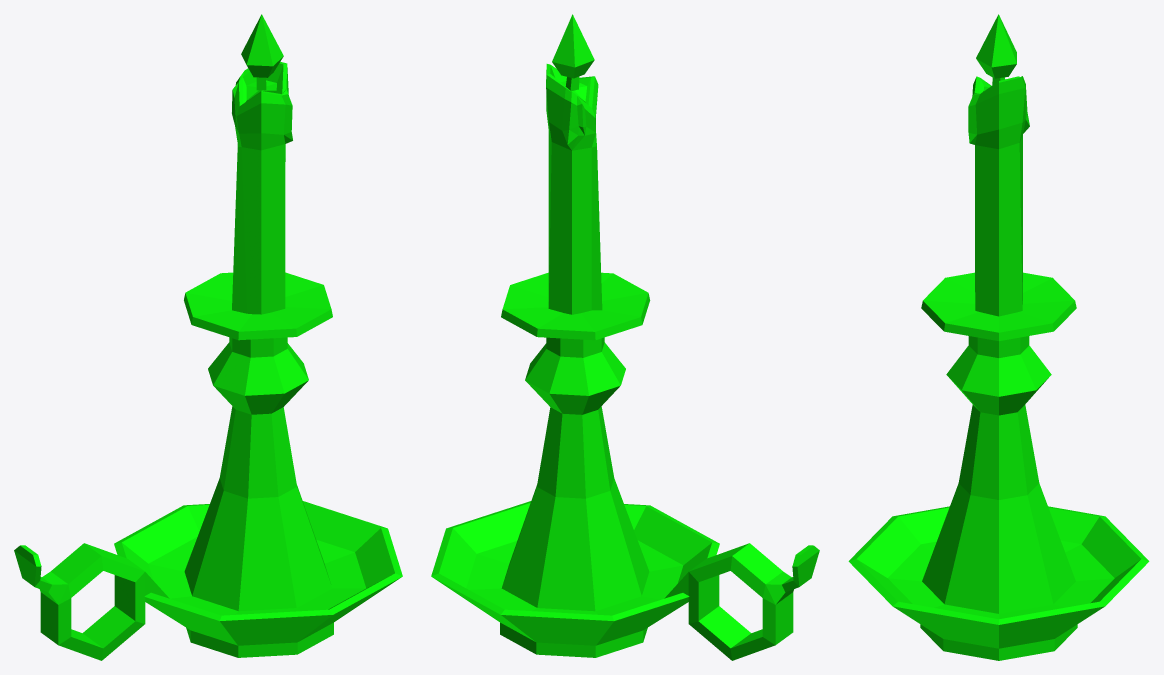
The model's file is SM_Candle_Finger_Holder_A_Lit_Fantasy.fbx.
The picture shows the model from 3 angles, left to right: view 1: azimuth 30°, elevation 25°; view 2: azimuth 150°, elevation 25°; view 3: azimuth 270°, elevation 25°; orthographic projection.
Visible parts, largest first — view 1: candle-finger-holder-a-lit-fantasy; view 2: candle-finger-holder-a-lit-fantasy; view 3: candle-finger-holder-a-lit-fantasy.
Part boxes in pixels (<box>): candle-finger-holder-a-lit-fantasy: <box>14,14,402,660</box>; candle-finger-holder-a-lit-fantasy: <box>431,14,819,660</box>; candle-finger-holder-a-lit-fantasy: <box>848,14,1149,660</box>.
Size of the model in its own units: 0.2453 by 0.395 by 0.1752.
